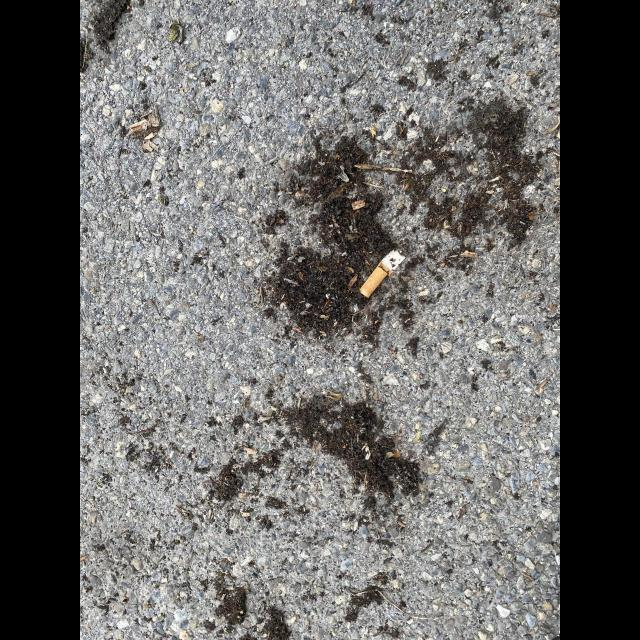cigarette: (359, 248, 405, 298)
